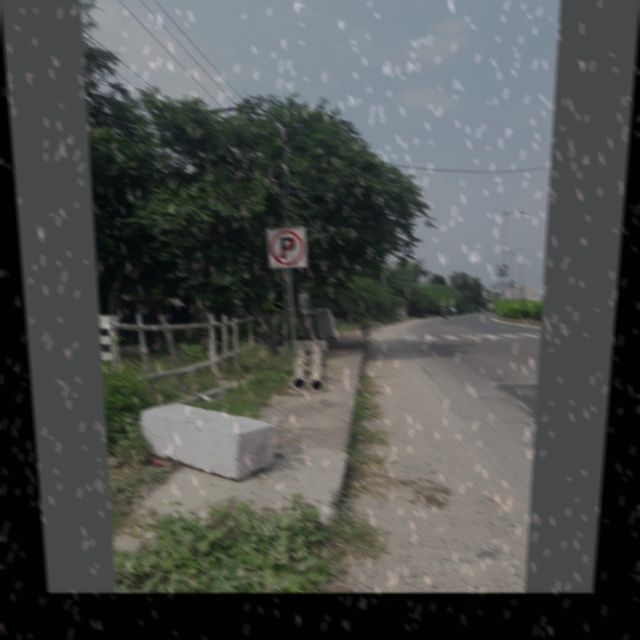No_Parking: (265, 225, 308, 271)
